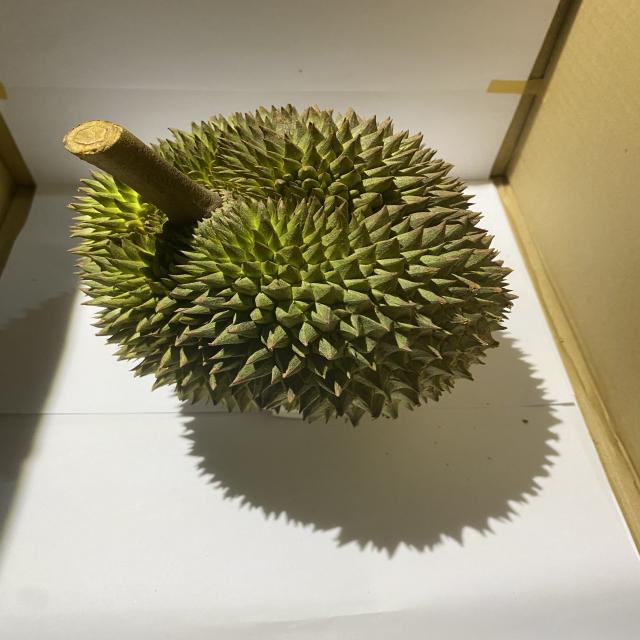immature: (63, 99, 519, 427)
